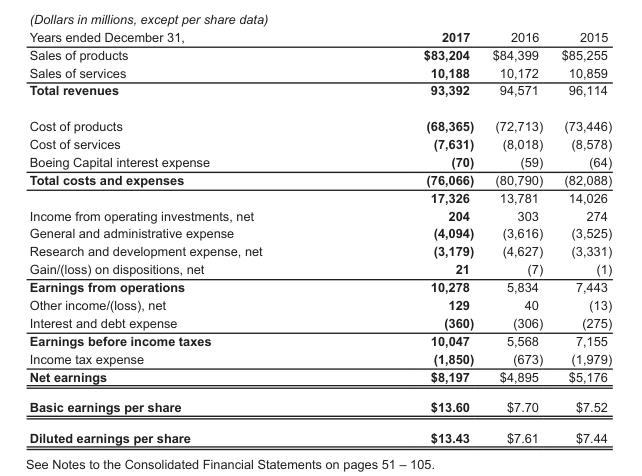table: (28, 29, 611, 444)
table column: (28, 29, 342, 444), (342, 29, 482, 444), (482, 29, 551, 444), (551, 29, 611, 444)
table column header: (28, 29, 611, 45)
table row: (28, 391, 611, 422), (28, 107, 611, 134), (28, 81, 611, 107), (28, 367, 611, 391), (28, 422, 611, 444), (28, 45, 611, 63), (28, 63, 611, 81), (28, 134, 611, 152), (28, 152, 611, 170), (28, 170, 611, 188), (28, 188, 611, 206), (28, 206, 611, 224), (28, 224, 611, 242), (28, 259, 611, 277), (28, 277, 611, 295), (28, 295, 611, 313), (28, 313, 611, 331), (28, 331, 611, 349), (28, 349, 611, 367), (28, 242, 611, 259), (28, 29, 611, 45)
